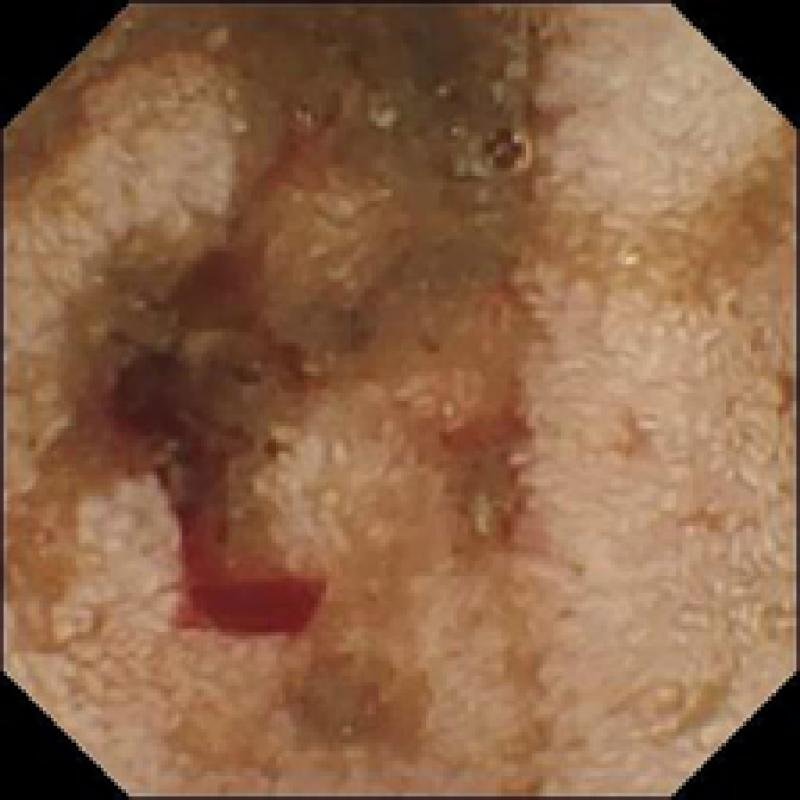bleeding: (118, 343, 321, 650)
